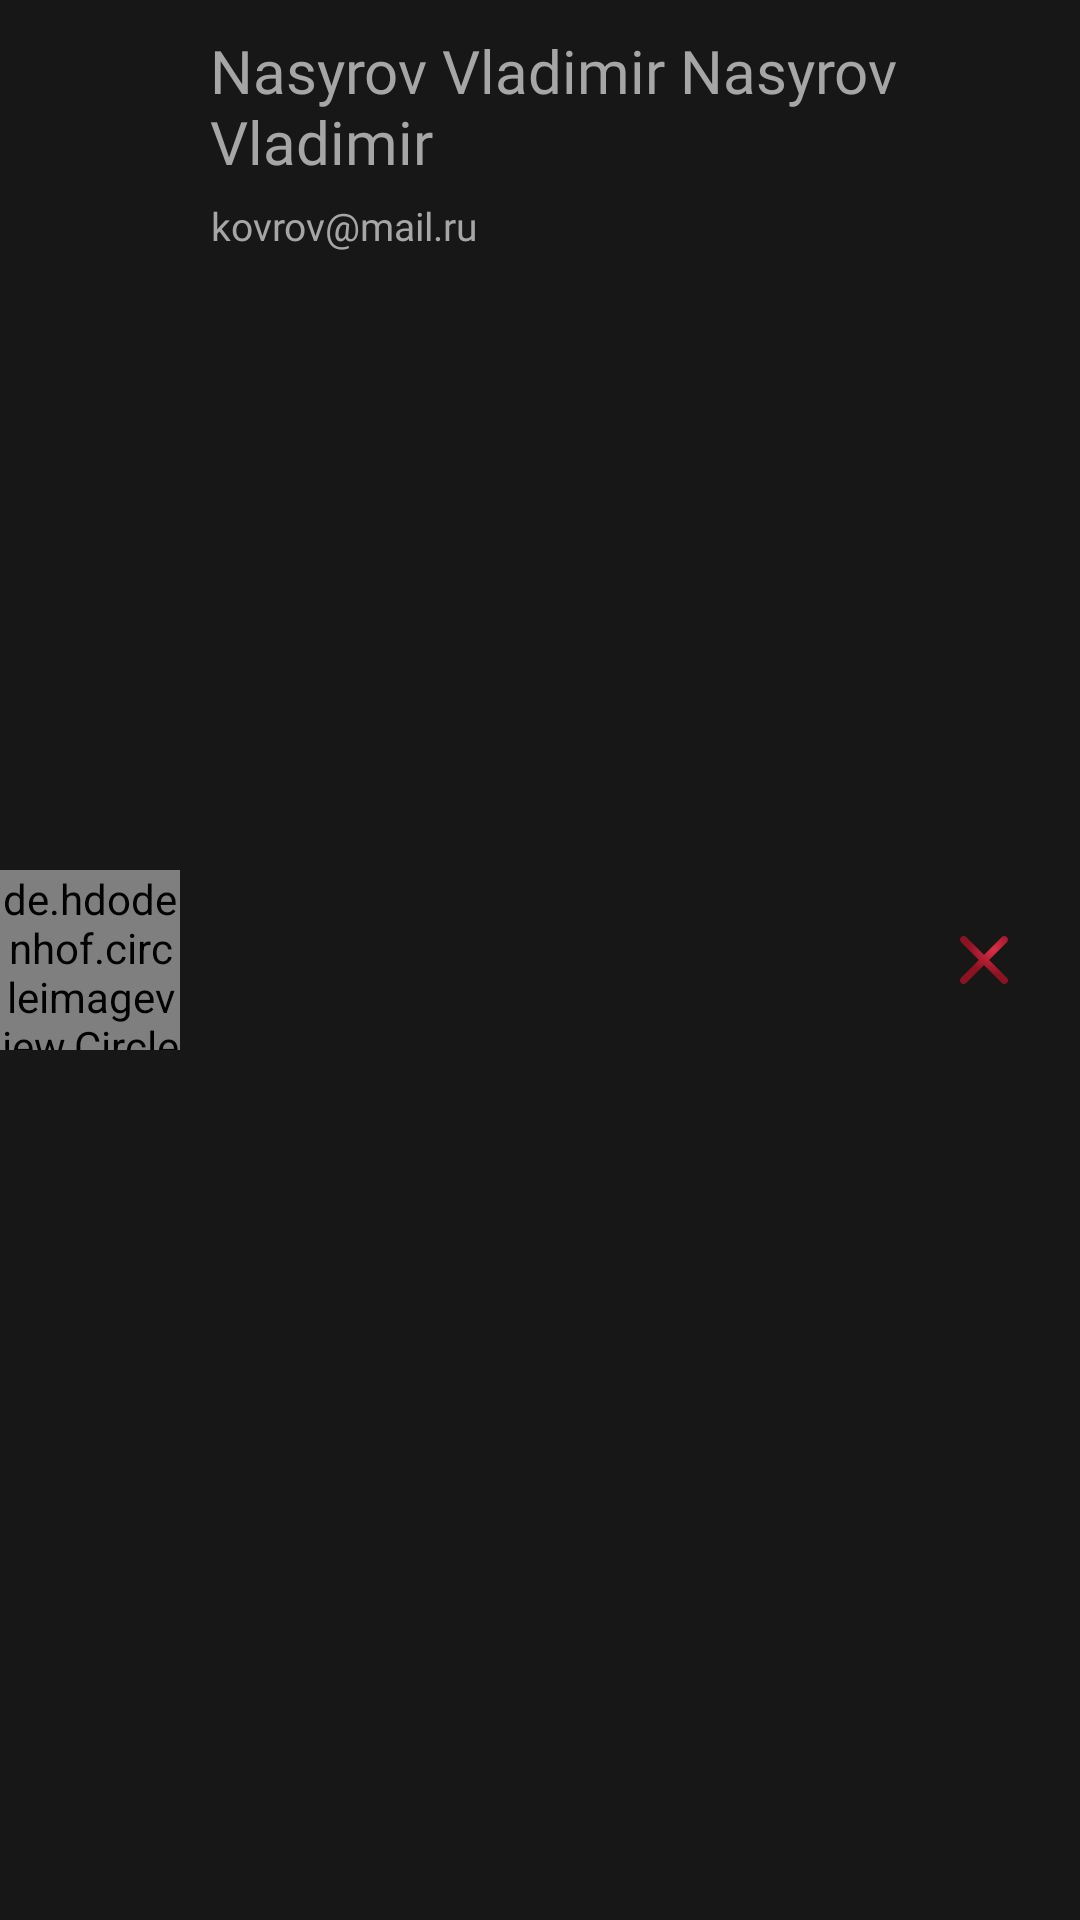

Icon bounding boxes for this 1080×1920 phone screenshot, format (x1, y1, x2, y2):
cross: (960, 936, 1008, 984)
